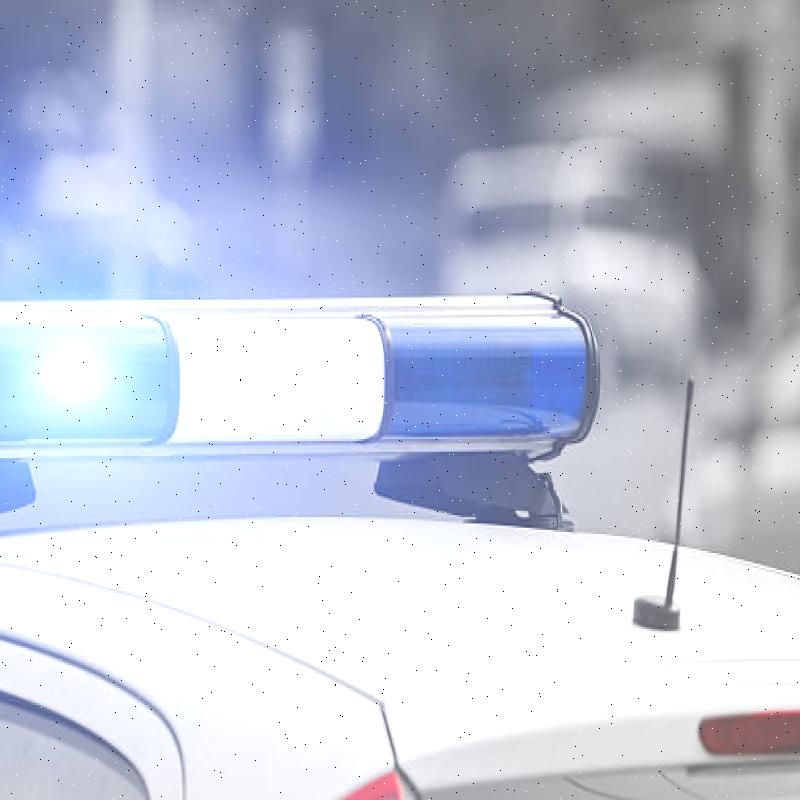AmbulanceSiren: (4, 243, 612, 515)
